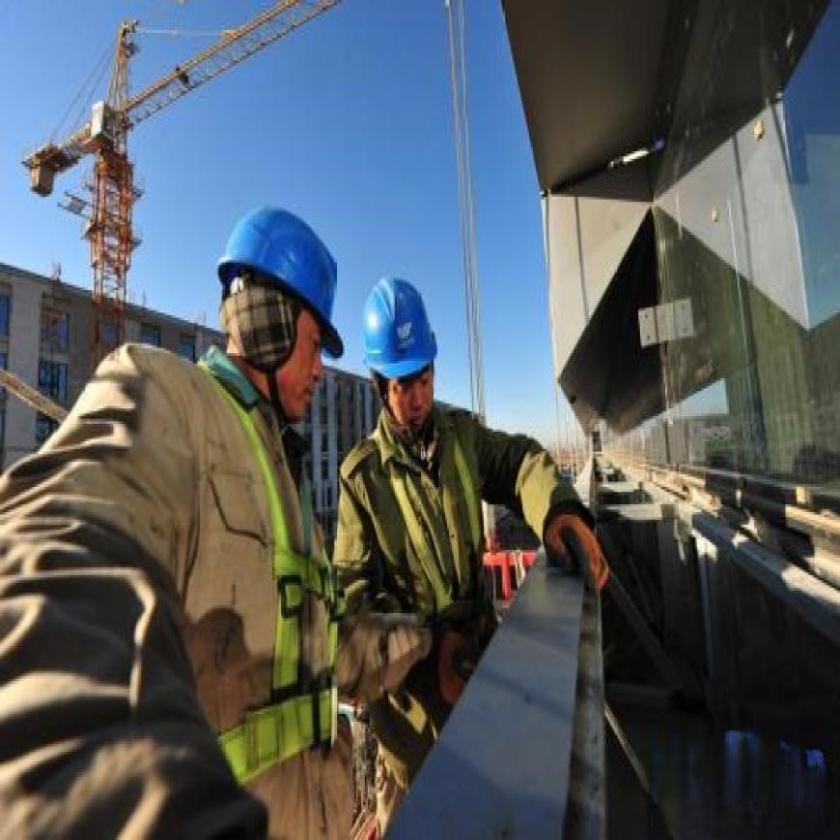Con_casco: (206, 178, 344, 424), (355, 269, 441, 443)
